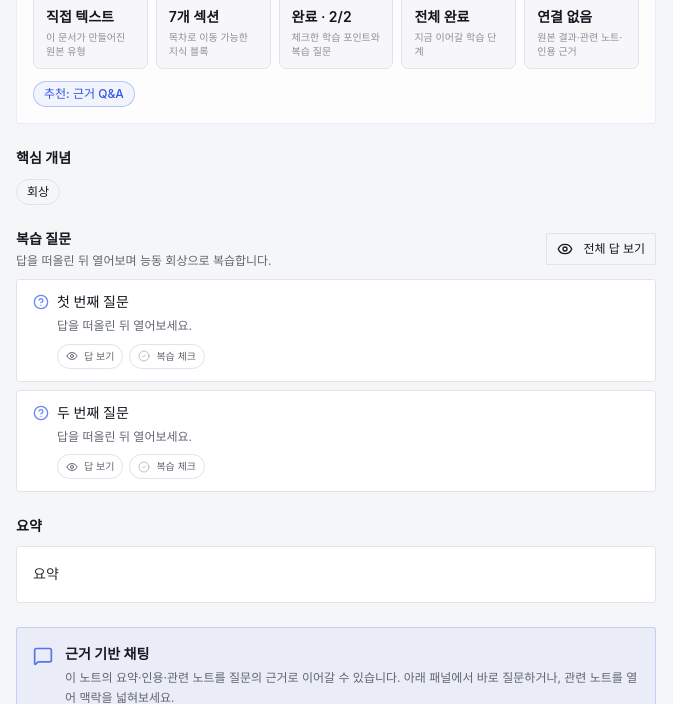
Scenario: NoteDetailPage 회상 보강 UI › uses isolated retry progress and enables grading only after completion
(page scrolled)
What coordinates should you click on to do the following:
click the button "복습 체크" below "첫 번째 질문"
I would click on:
 (167, 356)
Its box is [129,344,205,369].
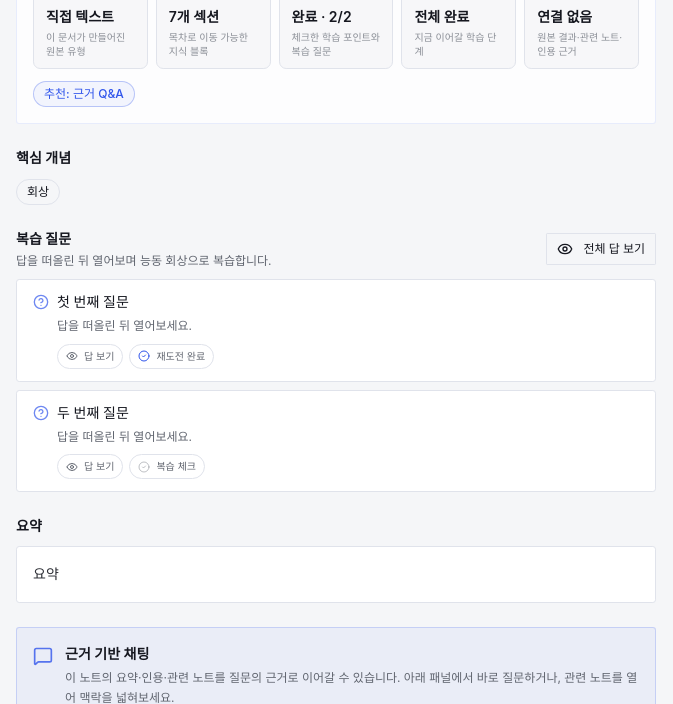
What coordinates should you click on to do the following:
click the button "복습 체크"
I would click on:
 (167, 467)
Its box is [129,454,205,479].
(page scrolled)
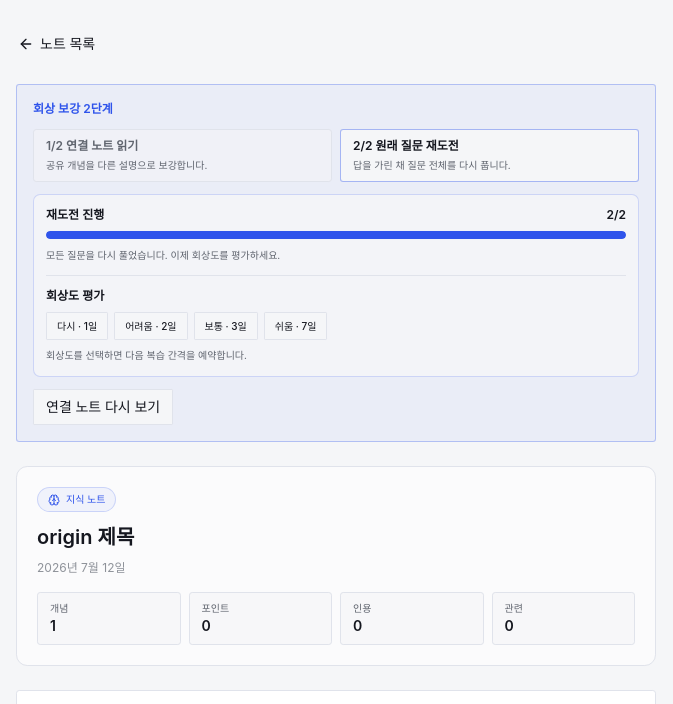
Expected: the button "보통 · 3일" is enabled
What coordinates should you click on to do the following:
click the button "보통 · 3일"
I would click on:
 (226, 326)
Its box is [194,312,258,340].
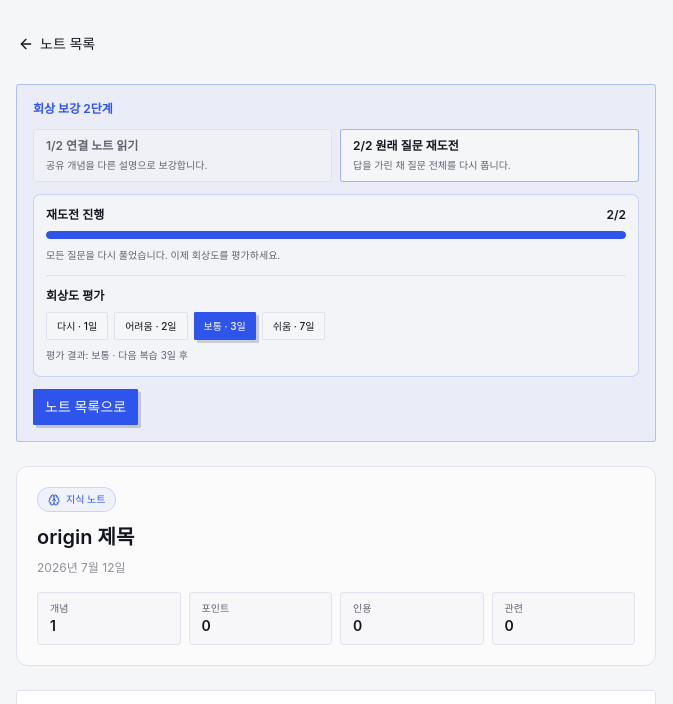
Expected: the text "평가 결과: 보통" is shown, [46,349,188,361]
Expected: the text "노트 목록으로" is shown, [33,389,138,425]
